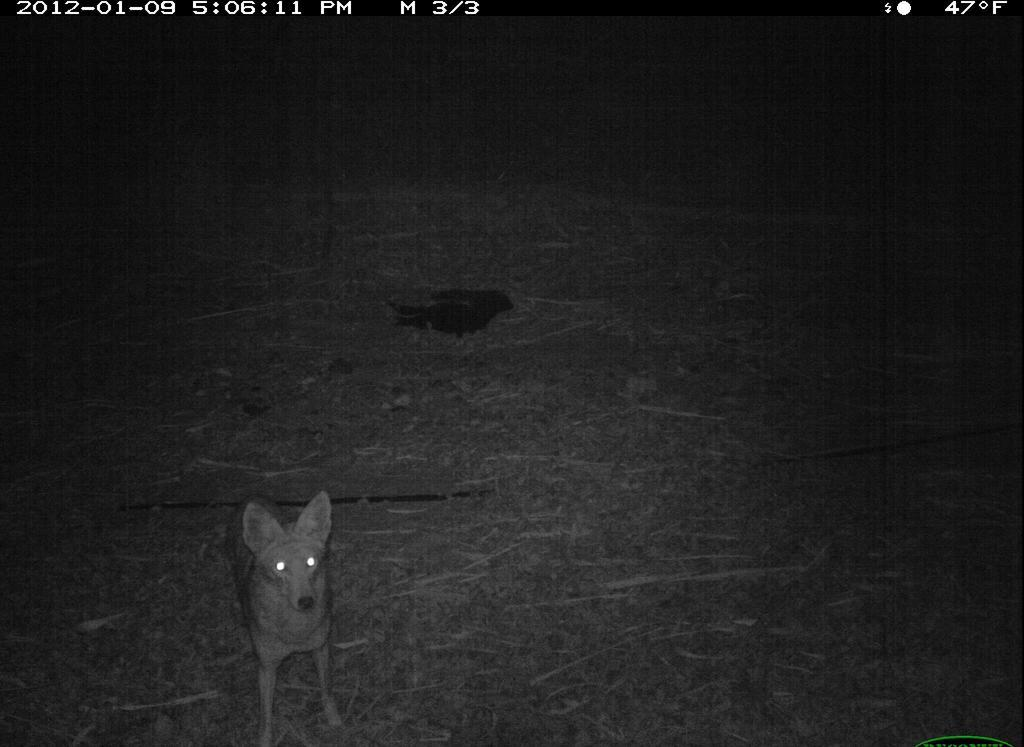coyote: (227, 488, 346, 747)
